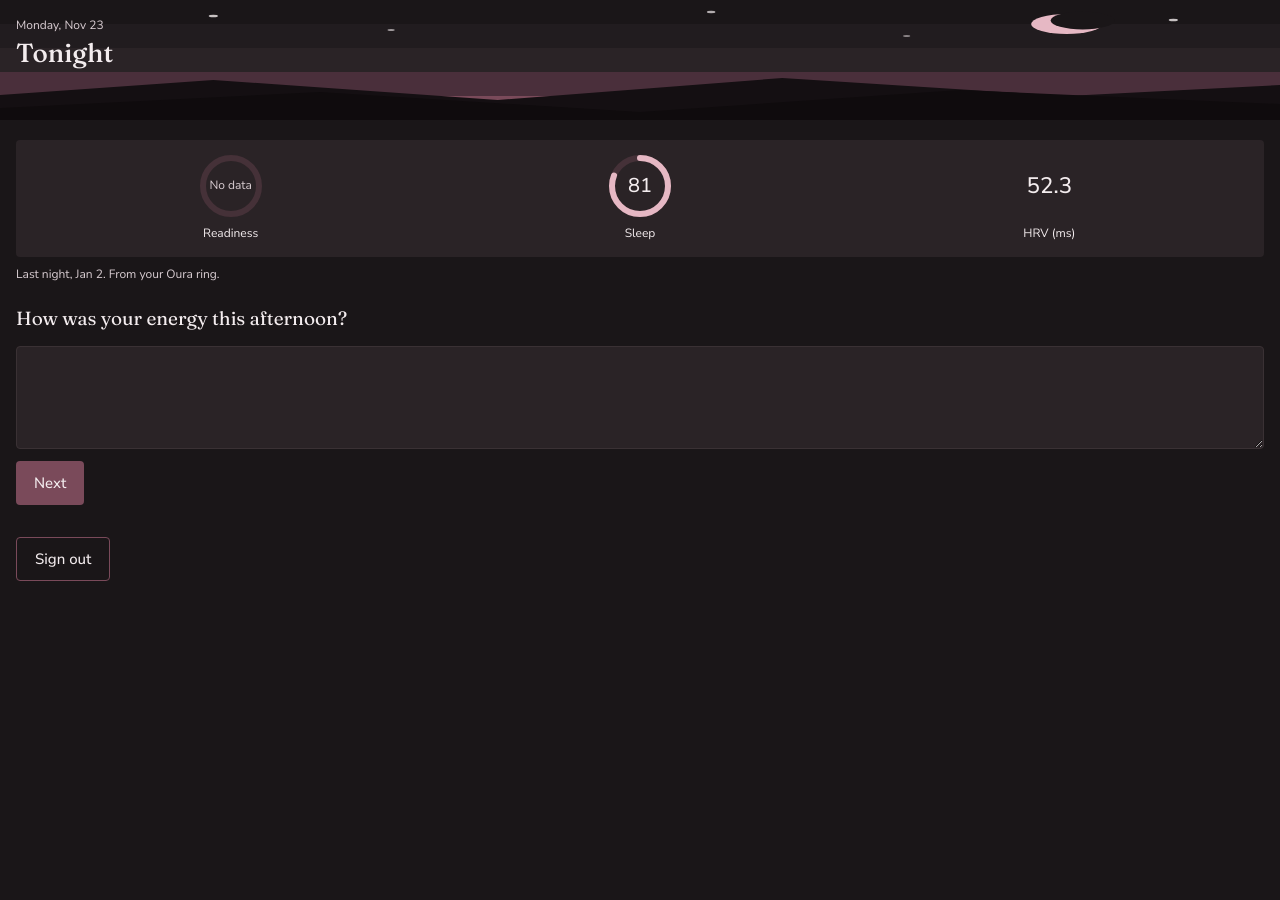
Test: Tonight › questions › asks one question at a time and keeps earlier answers above
This screenshot has width=1280, height=900.
Check: the text "When was your last caffeine today?" is not shown
Type "Flat until a 3pm espresso" into the text box labelled "How was your energy this afternoon?" at [640, 397], box [16,346,1264,449]
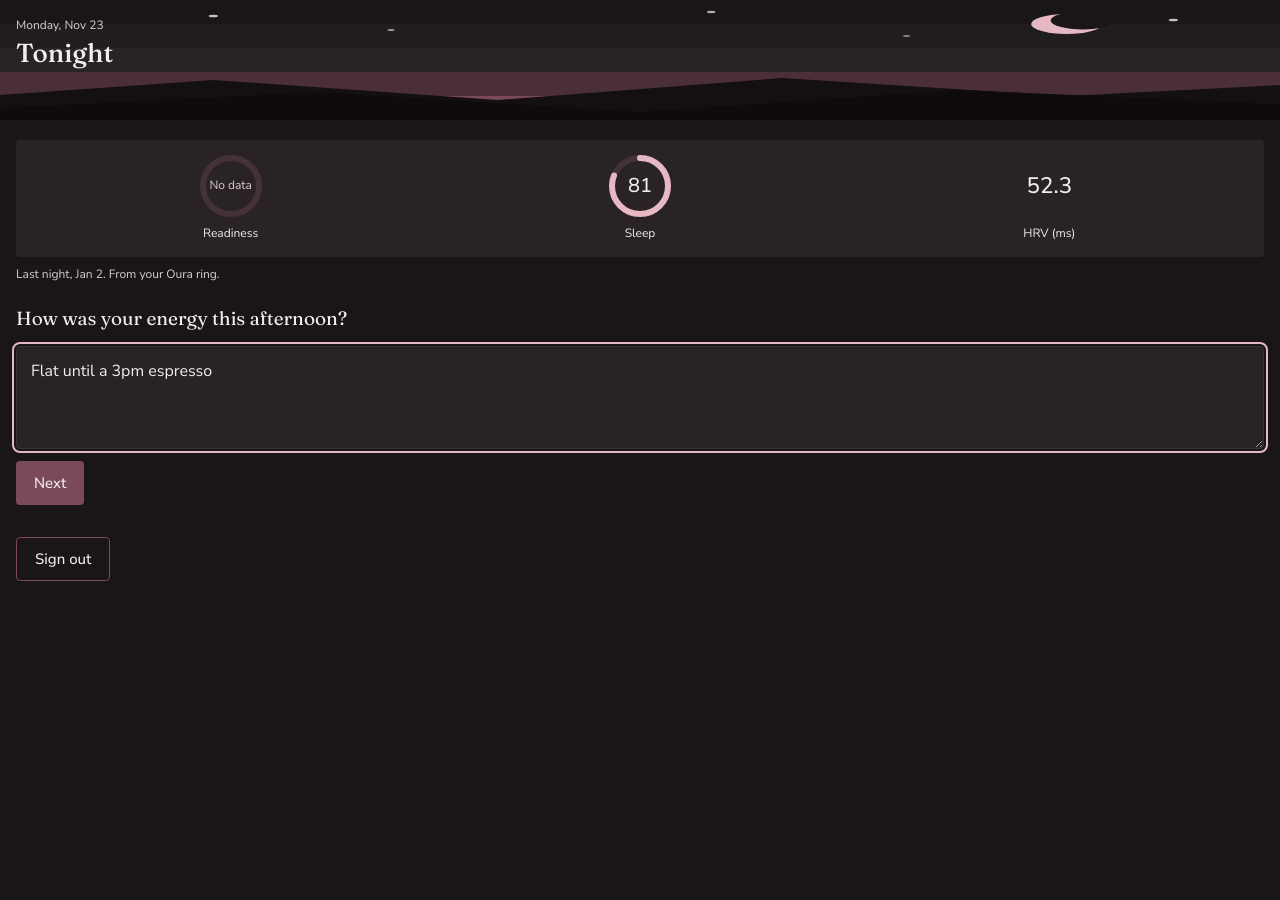
Click the button "Next" at [50, 483], box [16,461,84,505]
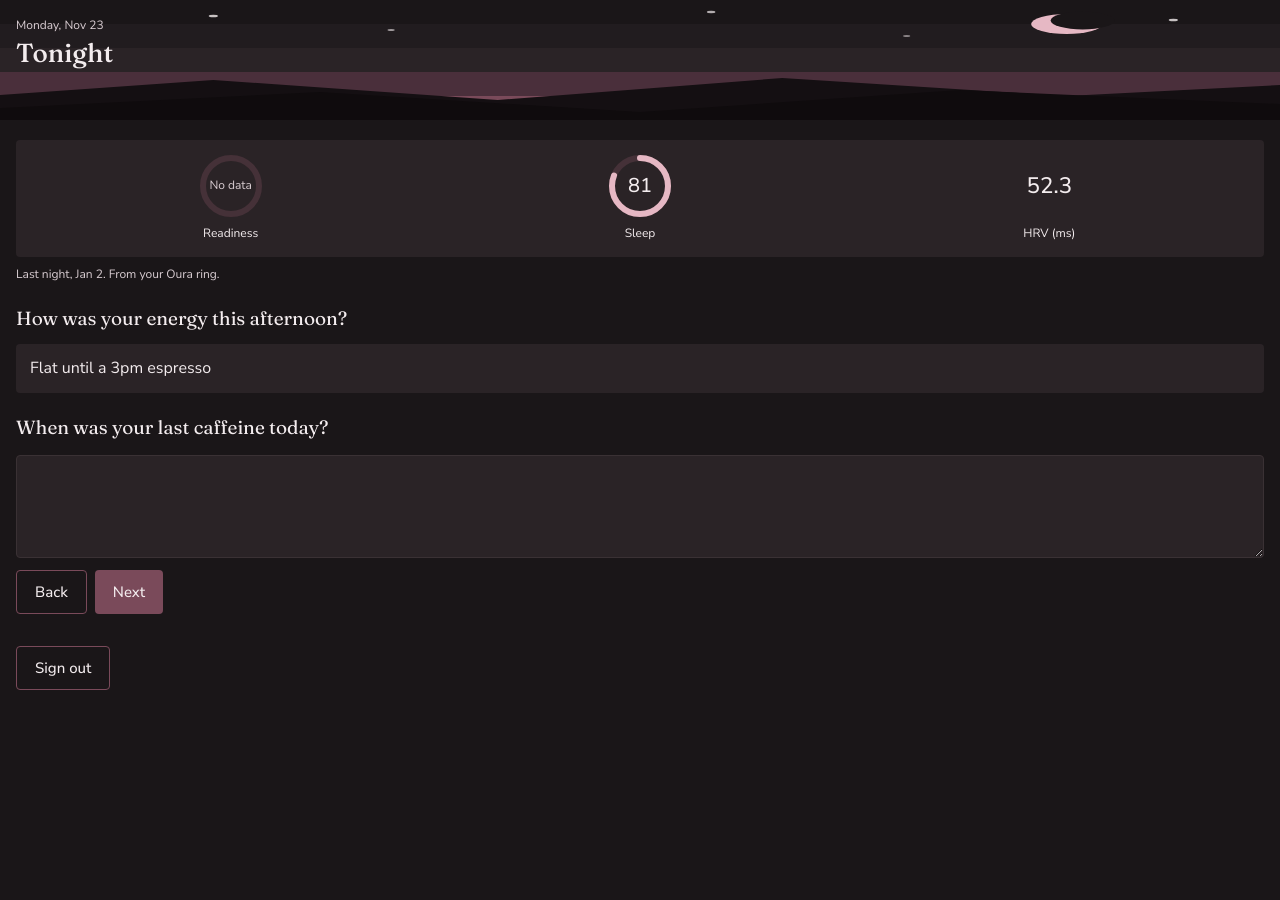
Check: the text box labelled "When was your last caffeine today?" is shown, box [16,455,1264,558]
Check: the text "Flat until a 3pm espresso" is shown, box [16,344,1264,393]
